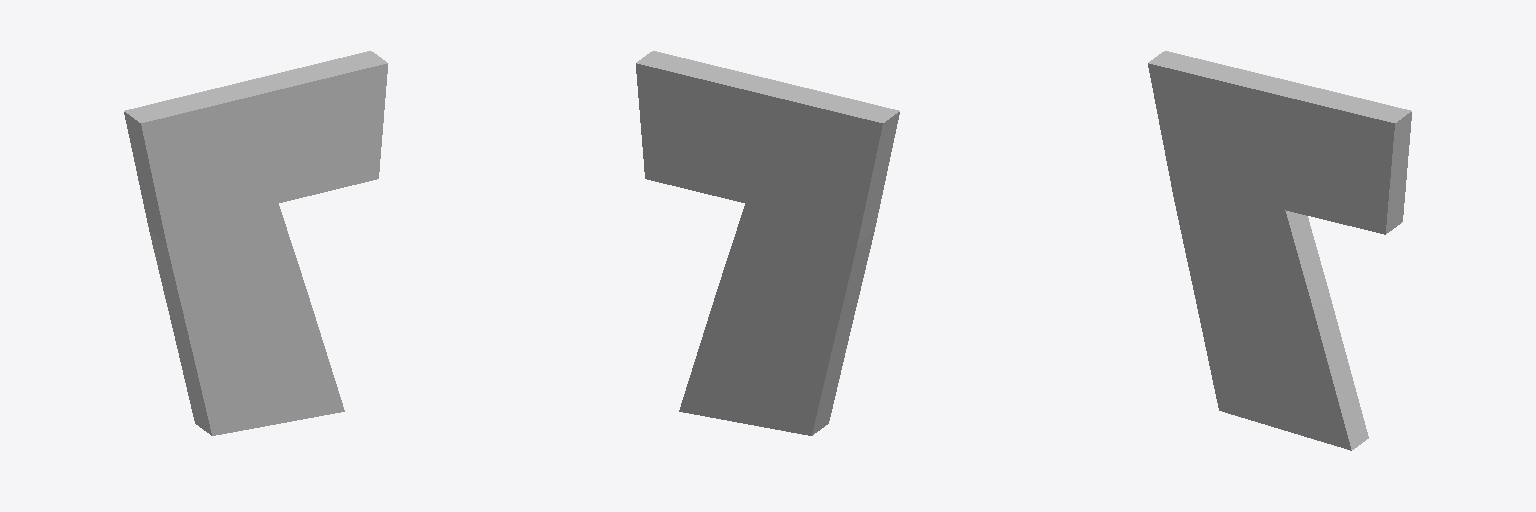
Rendered from number7.obj.
3 renders of one model, left to right at view 1: azimuth 30°, elevation 25°; view 2: azimuth 150°, elevation 25°; view 3: azimuth 330°, elevation 25°, orthographic.
Visible parts, largest first — view 1: 7; view 2: 7; view 3: 7.
Boxes of the visible parts, x1=… form: 7: x1=124, y1=51, x2=387, y2=435; 7: x1=636, y1=51, x2=899, y2=435; 7: x1=1148, y1=51, x2=1411, y2=450.
Bounding box in the file's own units: 1.66 × 2.16 × 0.2.